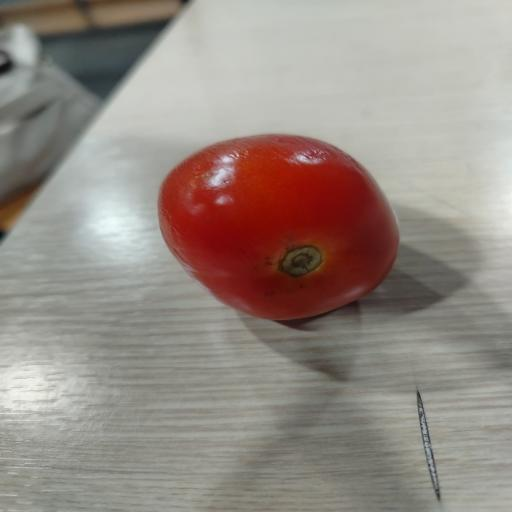spoiled: (158, 134, 399, 320)
